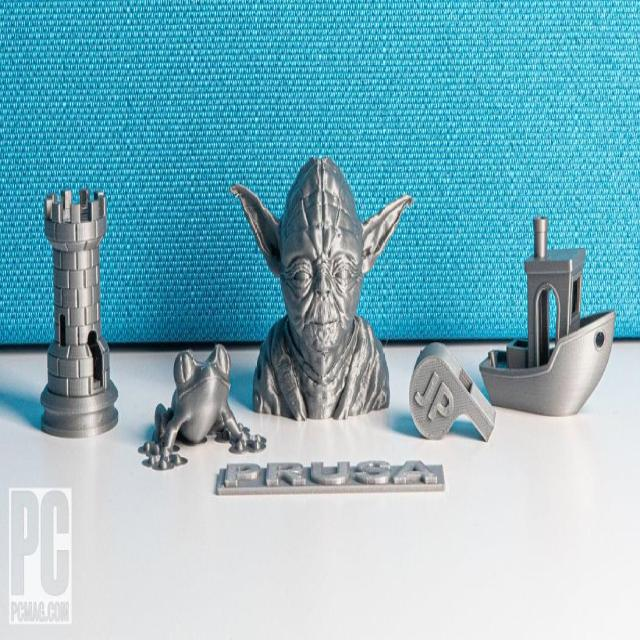Without deffect: (131, 143, 503, 537)
